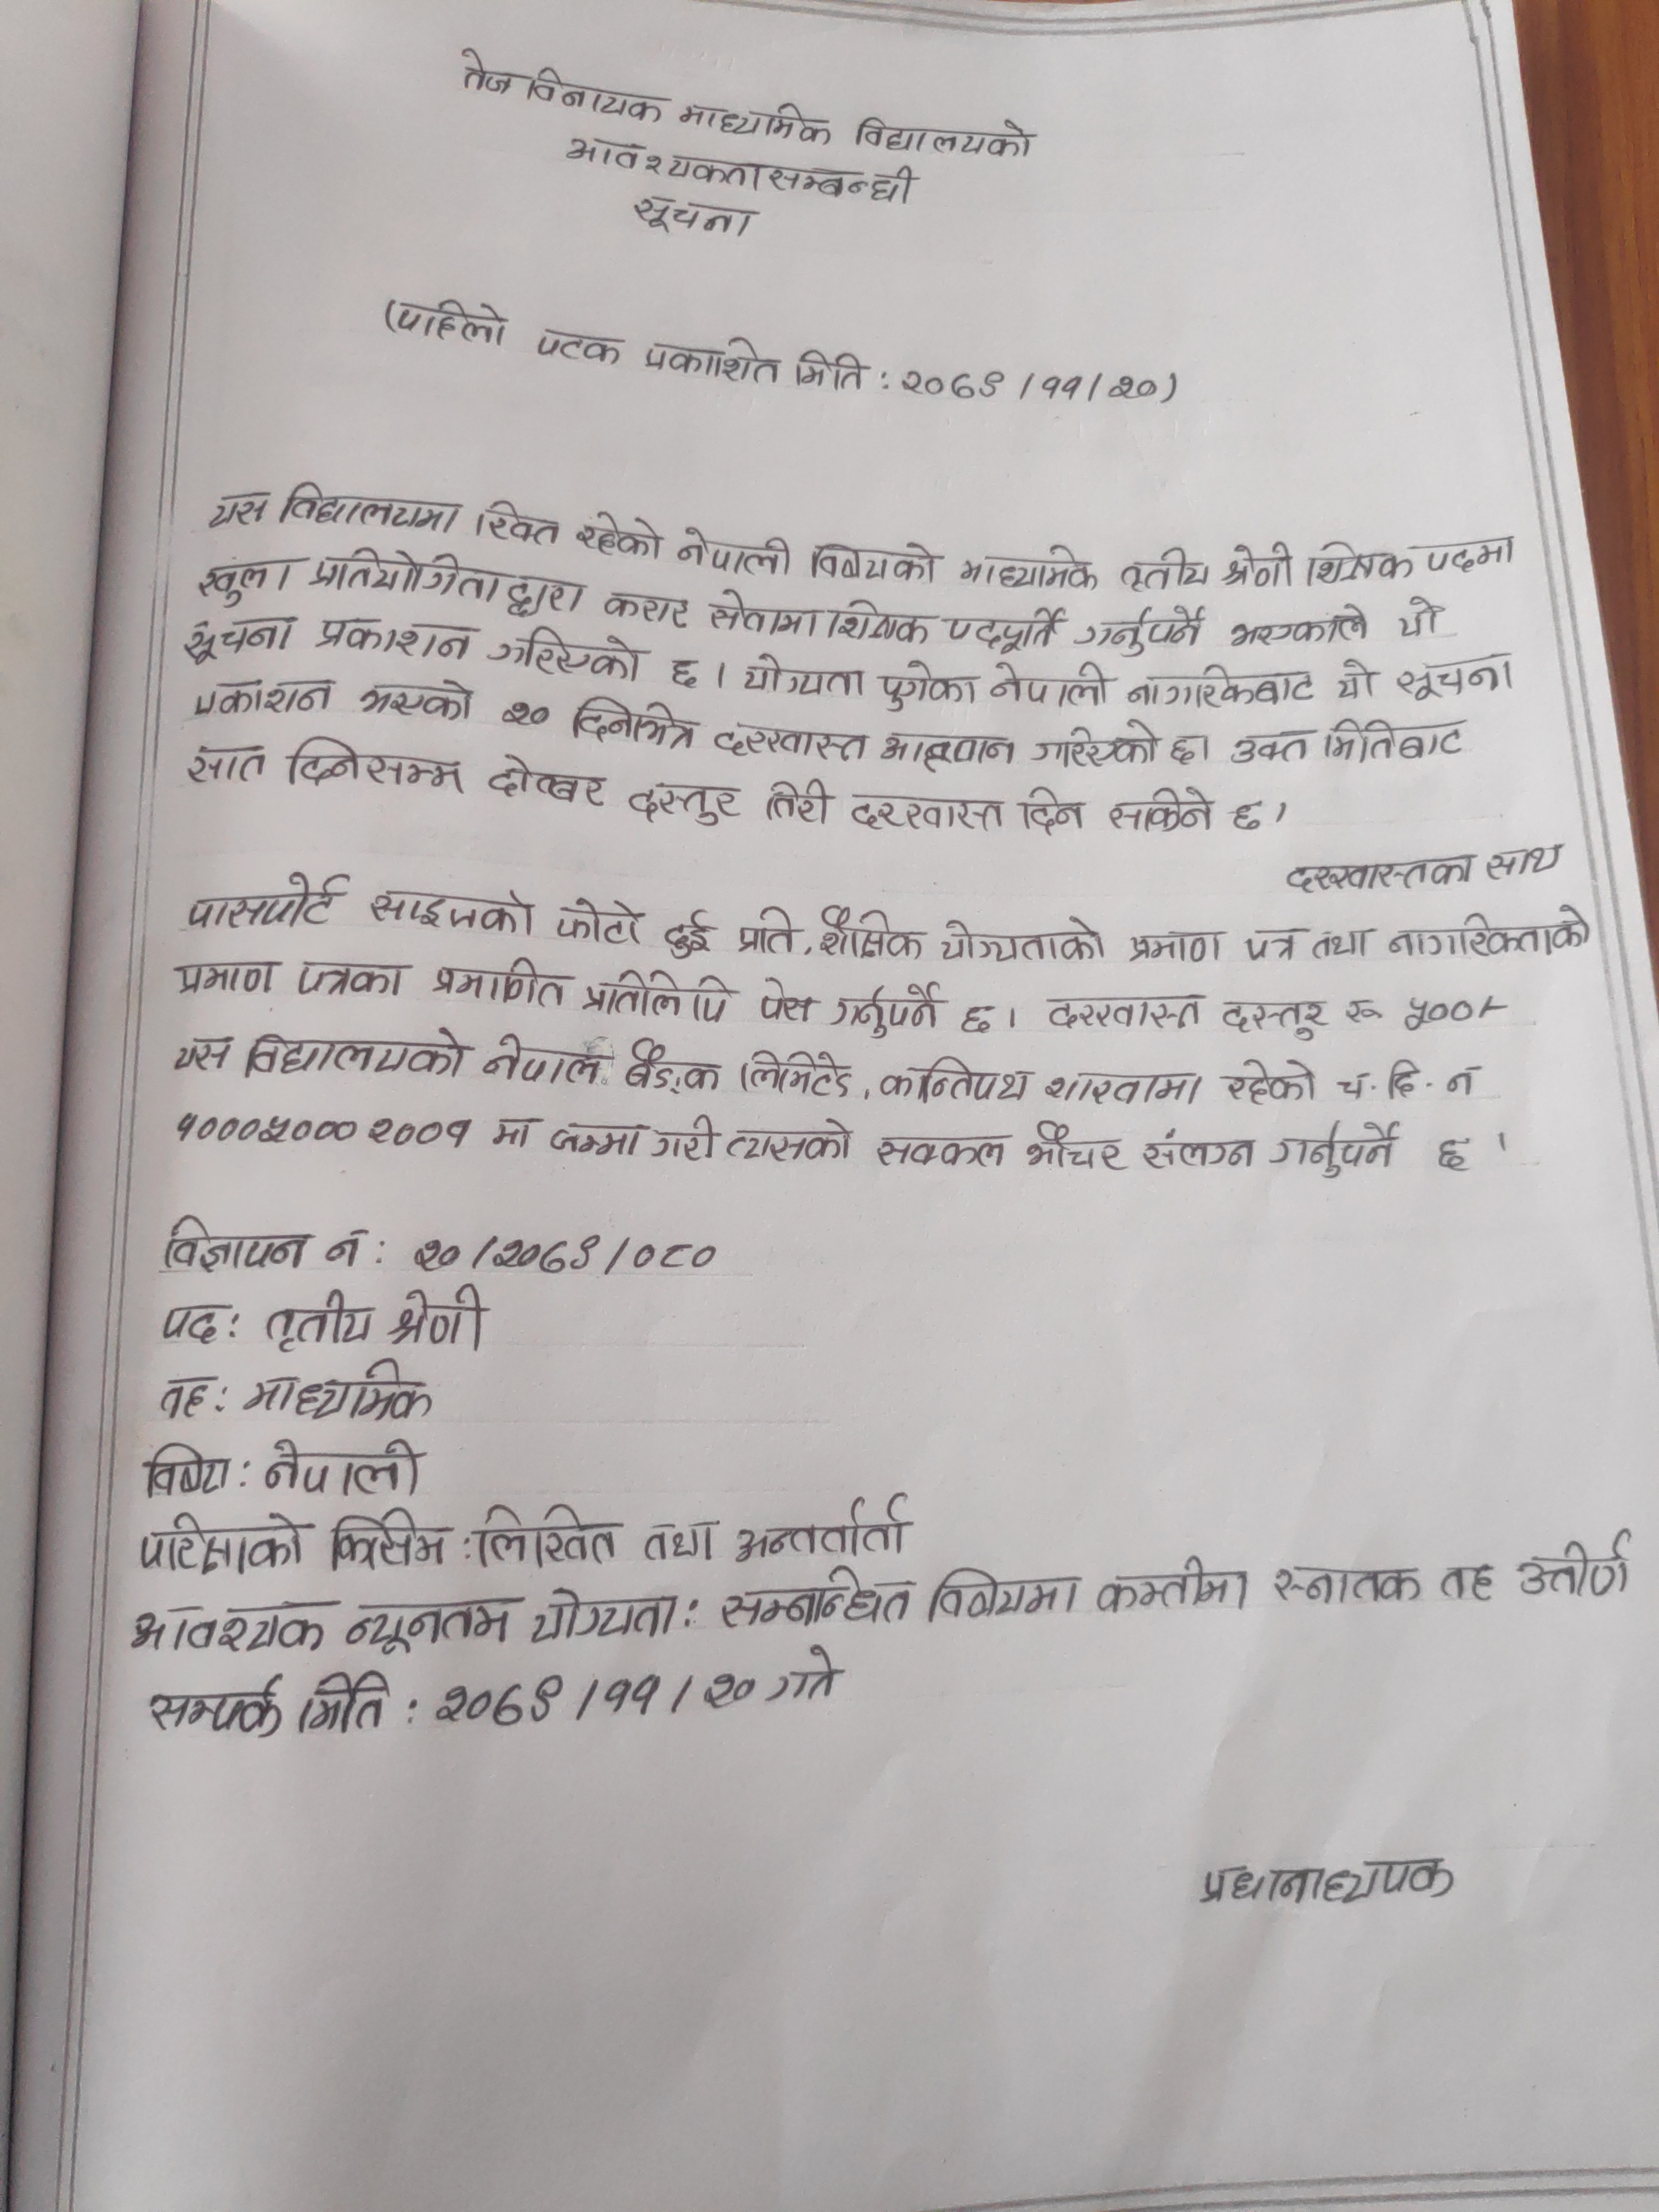text: (429, 1669, 765, 1728), (310, 549, 580, 620), (396, 1226, 730, 1273), (1188, 1853, 1459, 1911), (716, 1562, 915, 1635), (706, 587, 934, 648), (164, 1109, 479, 1151), (246, 1024, 472, 1080), (890, 364, 1157, 411), (727, 1493, 915, 1559), (1223, 719, 1471, 768), (1387, 904, 1603, 960), (282, 735, 469, 799), (242, 1357, 439, 1418), (136, 1510, 308, 1578), (127, 1601, 331, 1658), (566, 132, 763, 192), (282, 479, 465, 540), (263, 1432, 429, 1498), (369, 880, 538, 944), (476, 1500, 624, 1571), (925, 1561, 1080, 1629), (342, 1601, 521, 1658), (181, 869, 350, 930), (143, 1674, 288, 1743), (521, 1583, 685, 1644), (1122, 660, 1323, 709), (484, 627, 645, 685), (1513, 1531, 1633, 1608), (160, 1211, 315, 1270), (854, 113, 1037, 162), (936, 916, 1110, 967), (324, 1508, 457, 1575), (1091, 1557, 1253, 1611), (636, 331, 786, 388), (1284, 855, 1481, 899), (310, 611, 472, 664), (429, 951, 568, 1010), (673, 99, 835, 150), (582, 970, 734, 1024), (526, 66, 667, 124), (1267, 1118, 1403, 1177), (1267, 1561, 1424, 1611), (845, 789, 1004, 838), (484, 754, 610, 815), (479, 1031, 612, 1089), (1044, 988, 1204, 1035), (711, 721, 875, 766), (572, 695, 699, 752), (765, 157, 915, 206), (1340, 1055, 1488, 1104), (812, 906, 927, 968), (880, 1059, 1033, 1106), (718, 1115, 854, 1167), (263, 1289, 376, 1352), (1073, 608, 1204, 662), (805, 538, 939, 590), (831, 981, 941, 1043), (985, 658, 1115, 711), (739, 648, 868, 700), (1032, 721, 1164, 772), (673, 524, 796, 578), (957, 549, 1101, 594), (296, 1672, 397, 1737), (939, 608, 1063, 660), (389, 1287, 488, 1352), (357, 672, 479, 725), (1040, 1069, 1206, 1108), (1394, 655, 1523, 704), (1227, 601, 1375, 643), (190, 678, 338, 719), (875, 1129, 1011, 1174), (875, 658, 981, 716), (631, 193, 753, 242), (737, 1049, 854, 1099), (399, 301, 511, 354), (624, 1042, 725, 1099), (288, 960, 415, 1005), (136, 1449, 235, 1507), (877, 732, 1016, 772), (1021, 1120, 1124, 1174), (762, 1639, 845, 1705), (181, 620, 303, 665), (627, 780, 742, 827), (1307, 540, 1415, 589), (474, 495, 565, 552), (1216, 995, 1330, 1040), (552, 897, 647, 951), (1143, 1125, 1258, 1169), (575, 507, 664, 563), (1222, 1057, 1323, 1106), (1114, 550, 1218, 597), (193, 561, 293, 608), (1215, 542, 1305, 592), (1419, 531, 1521, 575), (1105, 791, 1216, 831), (171, 960, 282, 1000), (638, 1517, 725, 1568), (545, 1118, 647, 1160), (762, 772, 835, 829), (735, 904, 803, 963), (173, 745, 268, 787), (1124, 928, 1223, 968), (784, 348, 868, 395), (653, 1109, 718, 1169), (533, 331, 627, 371), (1018, 784, 1087, 838), (451, 44, 519, 96), (157, 1299, 228, 1348), (1434, 1561, 1504, 1609), (1483, 845, 1565, 885), (751, 975, 816, 1026), (202, 489, 274, 533), (603, 594, 697, 625), (660, 907, 709, 965), (173, 1031, 232, 1078), (150, 1378, 211, 1423), (1394, 594, 1448, 644), (1307, 923, 1373, 961), (1244, 921, 1302, 965), (1403, 998, 1476, 1029), (321, 1226, 369, 1270), (488, 1109, 538, 1151), (1431, 1129, 1473, 1177), (1333, 658, 1377, 704), (497, 700, 554, 730), (1168, 728, 1204, 765), (960, 1000, 993, 1040), (1230, 799, 1265, 836), (1342, 998, 1382, 1029), (666, 653, 697, 688)
